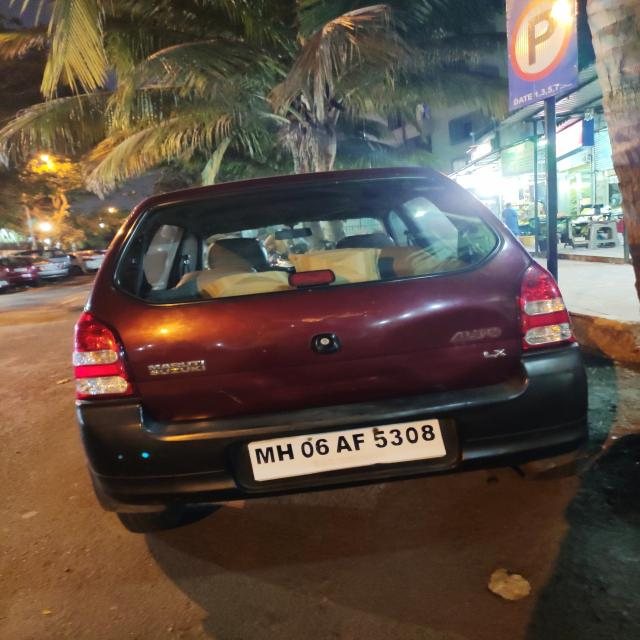Number-Plate: (256, 422, 442, 477)
